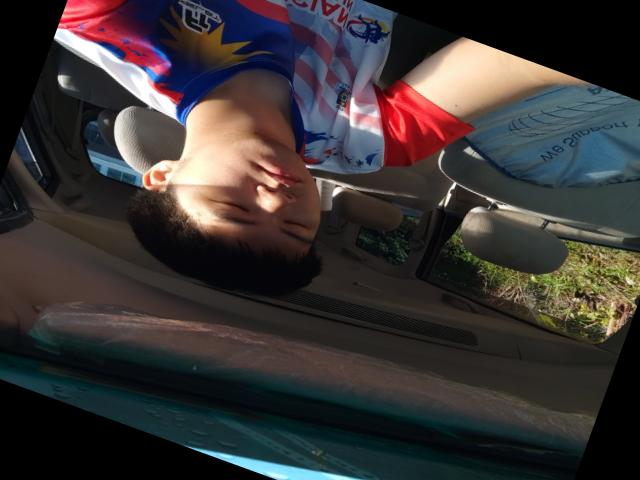eye_closed: (203, 189, 254, 218), (272, 211, 318, 237)
face: (166, 113, 344, 261)
